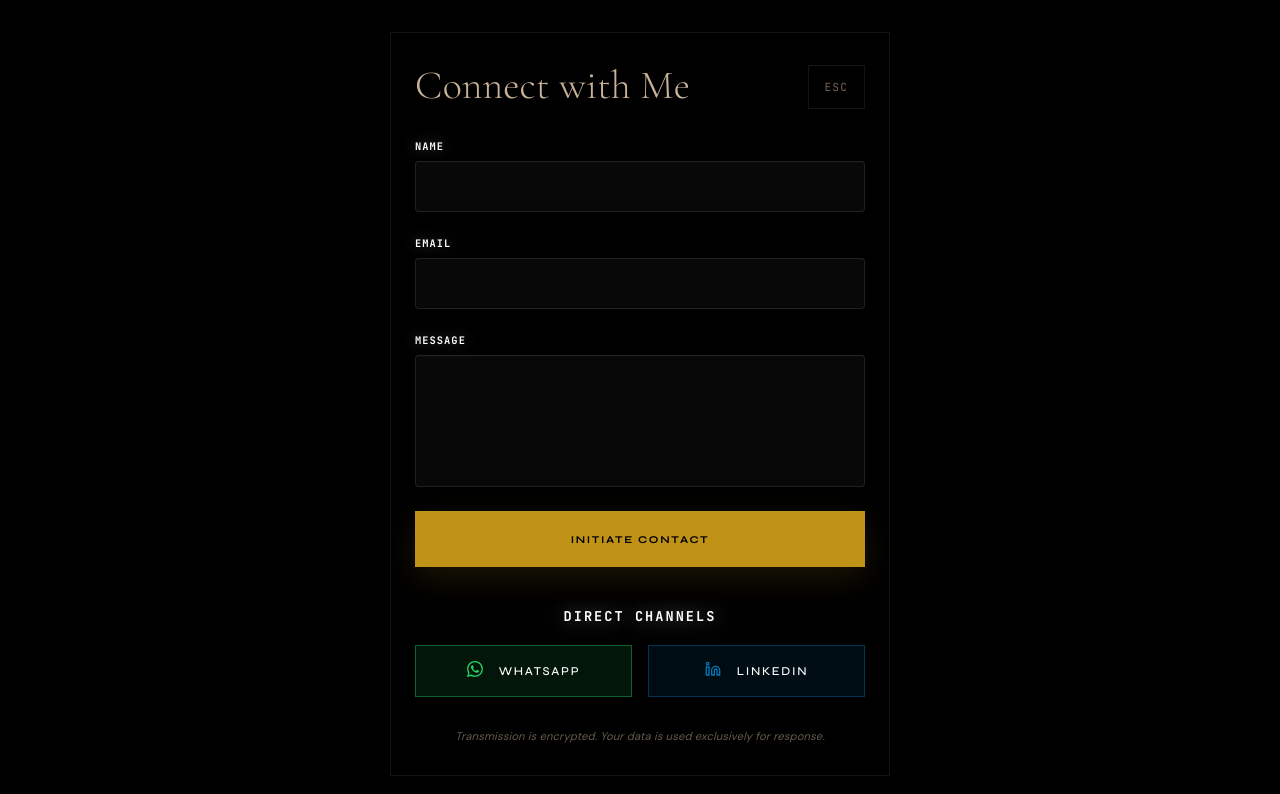
Test: ContactHUD Component › handles server errors gracefully
Type "Test User" into the field labelled "NAME" at (640, 186), box [415, 161, 865, 212]
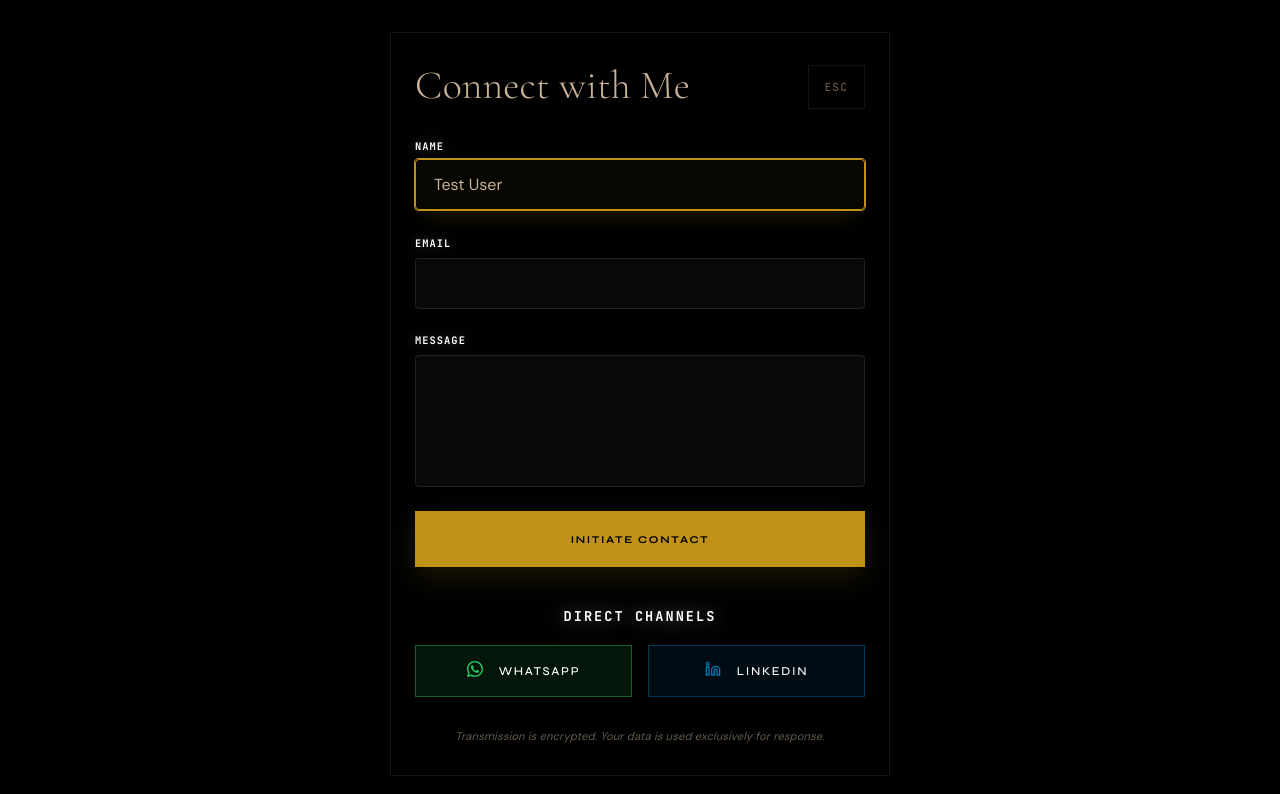
Type "error@test.com" into the field labelled "EMAIL" at (640, 284), box [415, 258, 865, 309]
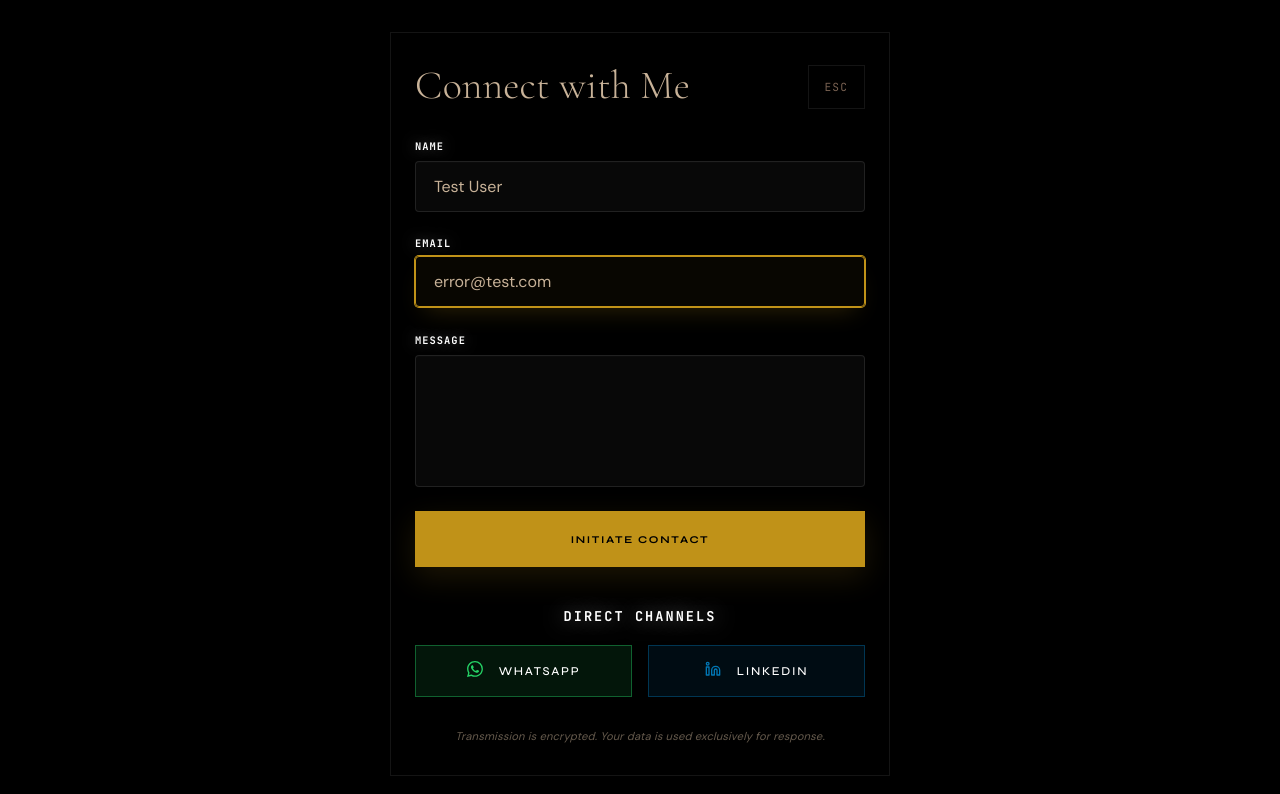
Type "Testing error handling in form submission." into the text box labelled "MESSAGE" at (640, 421), box [415, 355, 865, 487]
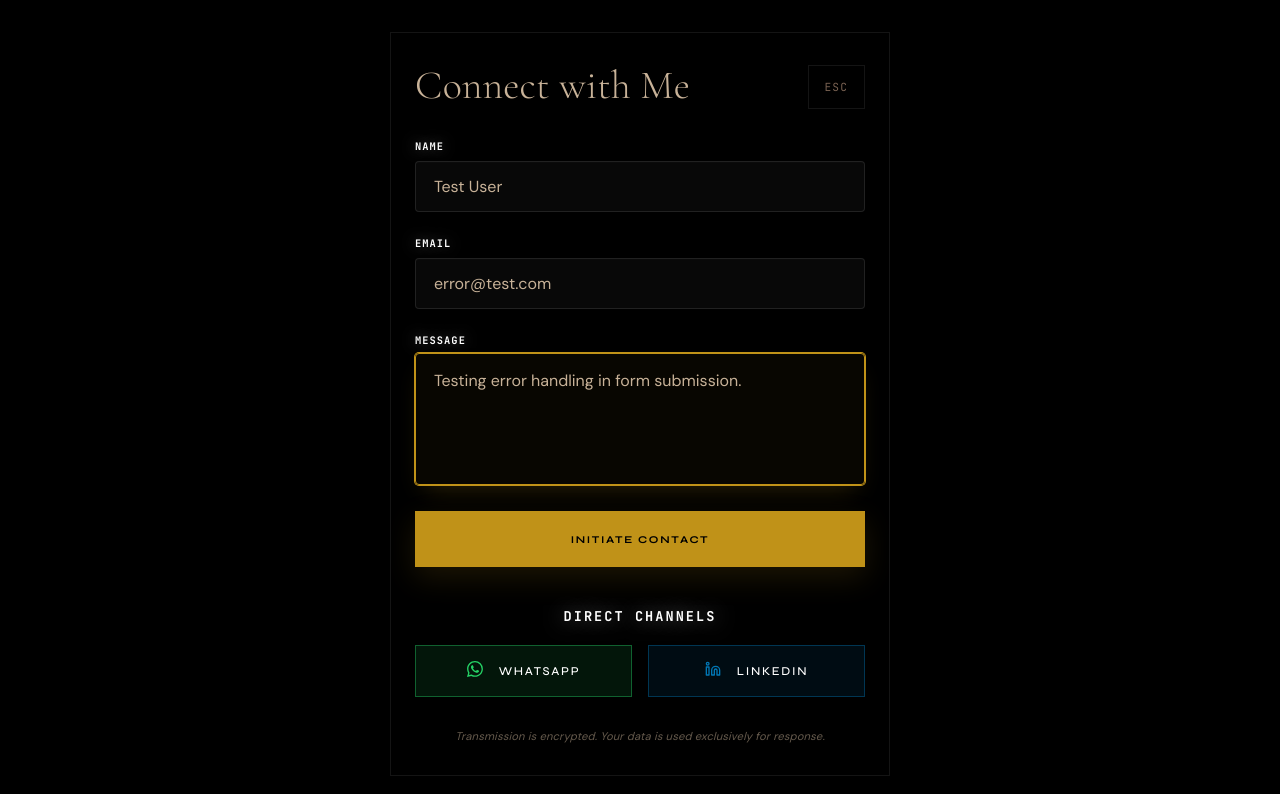
Click the button "INITIATE CONTACT" at (640, 539), box [415, 511, 865, 567]
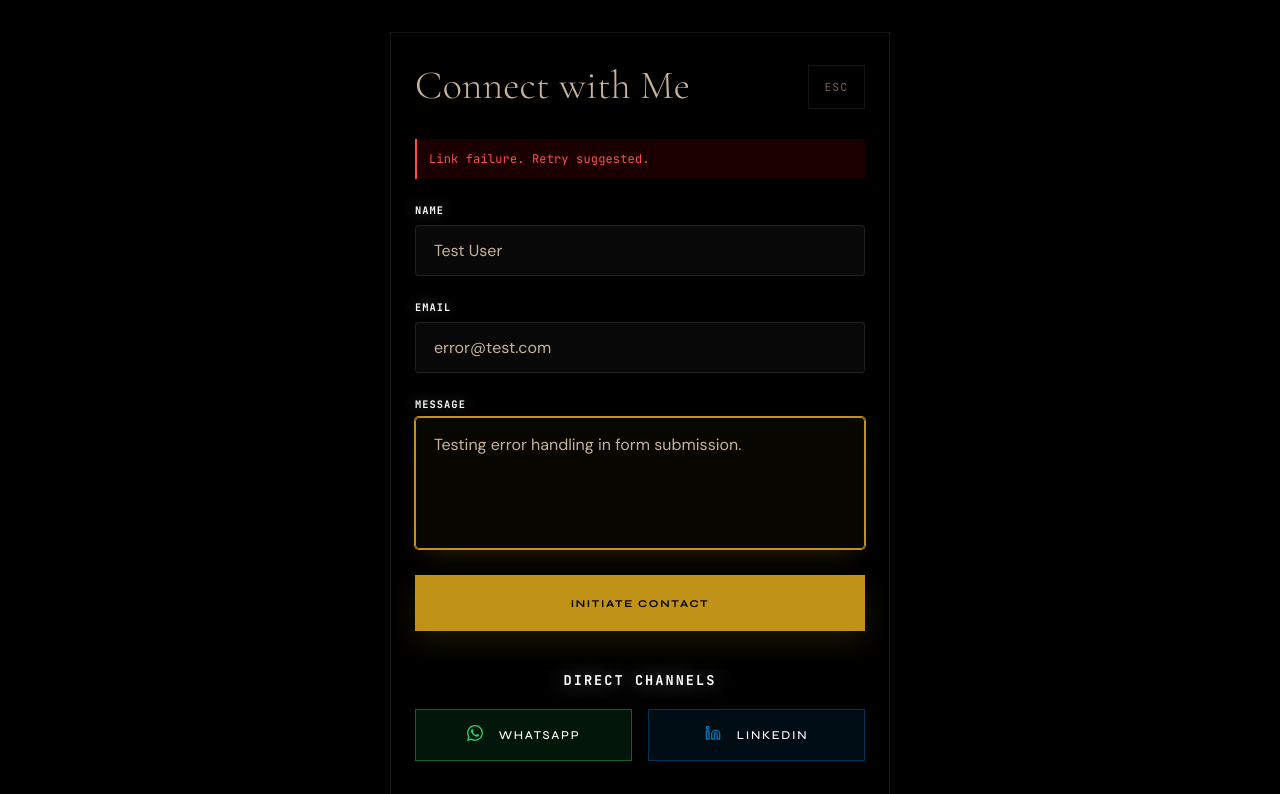
Result: the text "Link failure. Retry suggested." is shown at [415, 139, 865, 179]
